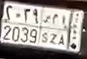0: (11, 11, 21, 43)
2: (3, 4, 13, 41)
3: (21, 6, 31, 44)
9: (29, 8, 39, 44)
A: (58, 14, 67, 46)
S: (41, 14, 51, 44)
Z: (50, 13, 59, 45)
